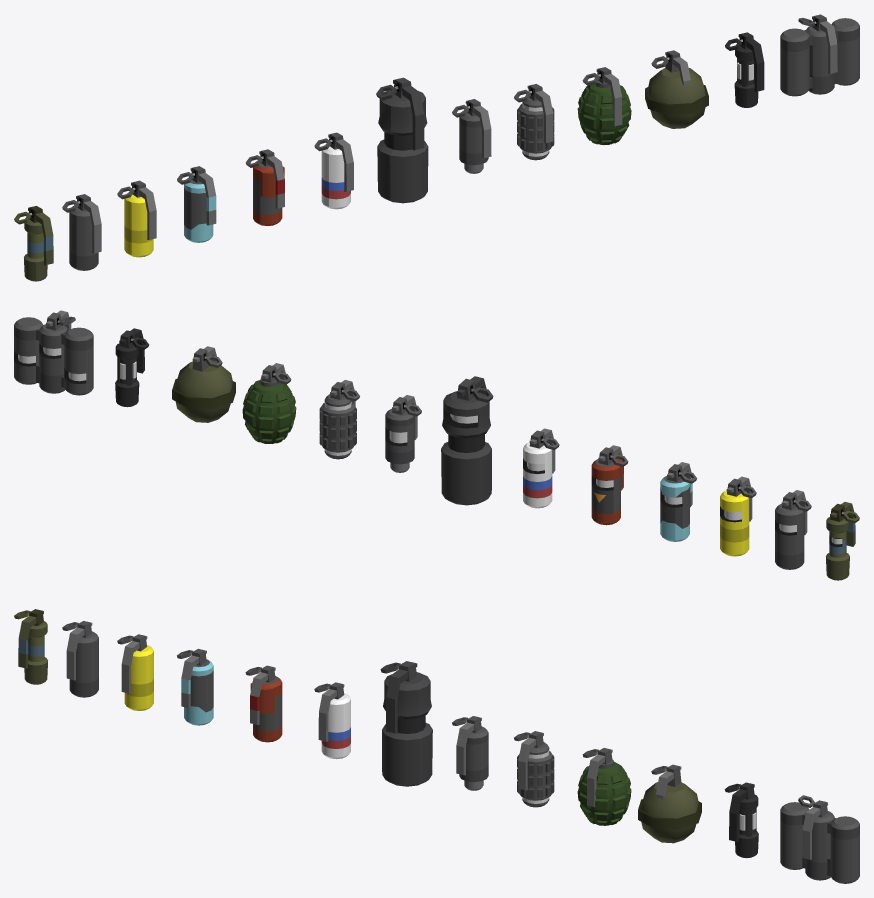
File: Grenades.fbx
3 renders of one model, top to bottom at view 1: azimuth 30°, elevation 25°; view 2: azimuth 150°, elevation 25°; view 3: azimuth 330°, elevation 25°, orthographic.
Parts seen in each view (by area): view 1: ClusterGrenade, LargeGrenade, M26Grenade, FragGrenade, ConfettiGrenade, BananaGrenade, PlasmaGrenade, ChemicalGrenade, GluonGrenade, EMPGrenade, TimeGrenadeRotor, SyndicateGrenade (+13 smaller); view 2: ClusterGrenade, LargeGrenade, M26Grenade, FragGrenade, PlasmaGrenade, BananaGrenade, ConfettiGrenade, ChemicalGrenade, GluonGrenade, EMPGrenade, TimeGrenadeRotor, SyndicateGrenade (+2 smaller); view 3: ClusterGrenade, LargeGrenade, M26Grenade, FragGrenade, PlasmaGrenade, GluonGrenade, ChemicalGrenade, BananaGrenade, ConfettiGrenade, EMPGrenade, TimeGrenadeRotor, SyndicateGrenade (+14 smaller).
Part boxes in pixels (left/top/right/bottom): ClusterGrenade: left=780, top=18, right=859, bottom=96; LargeGrenade: left=377, top=90, right=428, bottom=203; M26Grenade: left=645, top=68, right=708, bottom=128; FragGrenade: left=577, top=80, right=631, bottom=144; ConfettiGrenade: left=321, top=144, right=350, bottom=209; BananaGrenade: left=124, top=192, right=153, bottom=257; PlasmaGrenade: left=253, top=161, right=284, bottom=225; ChemicalGrenade: left=69, top=206, right=98, bottom=270; GluonGrenade: left=184, top=177, right=213, bottom=242; EMPGrenade: left=459, top=110, right=488, bottom=173; TimeGrenadeRotor: left=517, top=104, right=554, bottom=153; SyndicateGrenade: left=734, top=46, right=758, bottom=107; ClusterGrenade: left=14, top=317, right=93, bottom=395; LargeGrenade: left=441, top=391, right=491, bottom=505; M26Grenade: left=172, top=360, right=235, bottom=422; FragGrenade: left=242, top=377, right=296, bottom=443; PlasmaGrenade: left=591, top=458, right=623, bottom=525; BananaGrenade: left=720, top=490, right=749, bottom=556; ConfettiGrenade: left=523, top=442, right=552, bottom=508; ChemicalGrenade: left=775, top=504, right=804, bottom=569; GluonGrenade: left=660, top=476, right=689, bottom=541; EMPGrenade: left=385, top=408, right=414, bottom=472; TimeGrenadeRotor: left=319, top=403, right=356, bottom=452; SyndicateGrenade: left=115, top=343, right=139, bottom=407; ClusterGrenade: left=780, top=802, right=859, bottom=883; LargeGrenade: left=382, top=672, right=432, bottom=786; M26Grenade: left=638, top=782, right=701, bottom=843; FragGrenade: left=577, top=759, right=631, bottom=825; PlasmaGrenade: left=250, top=676, right=282, bottom=742; GluonGrenade: left=184, top=659, right=213, bottom=725; ChemicalGrenade: left=69, top=631, right=98, bottom=697; BananaGrenade: left=124, top=645, right=153, bottom=710; ConfettiGrenade: left=321, top=693, right=350, bottom=759; EMPGrenade: left=459, top=726, right=488, bottom=790; TimeGrenadeRotor: left=517, top=751, right=554, bottom=800; SyndicateGrenade: left=735, top=794, right=758, bottom=858.
Size of the model in its own units: 3.67 by 0.4765 by 0.265.
